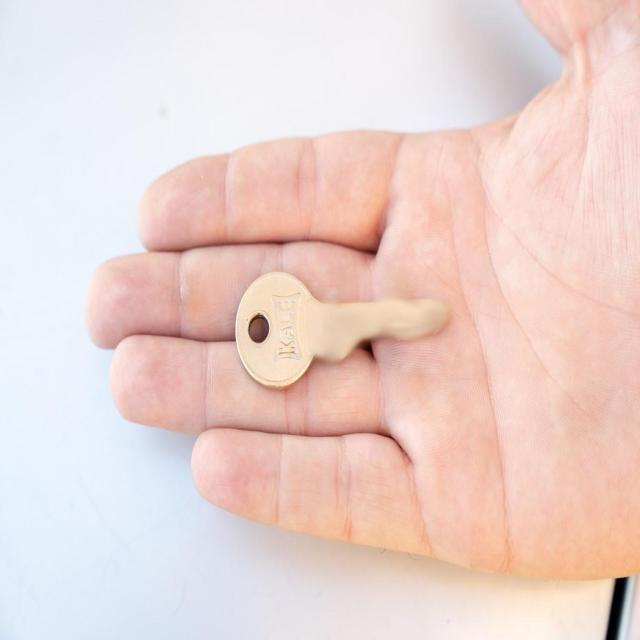Frontdoor keys: (234, 268, 450, 391)
